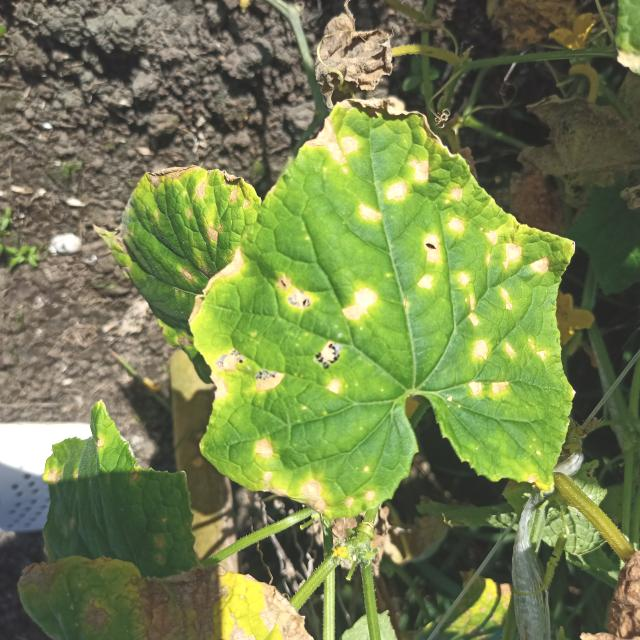disease_cucumber: (195, 110, 568, 518)
